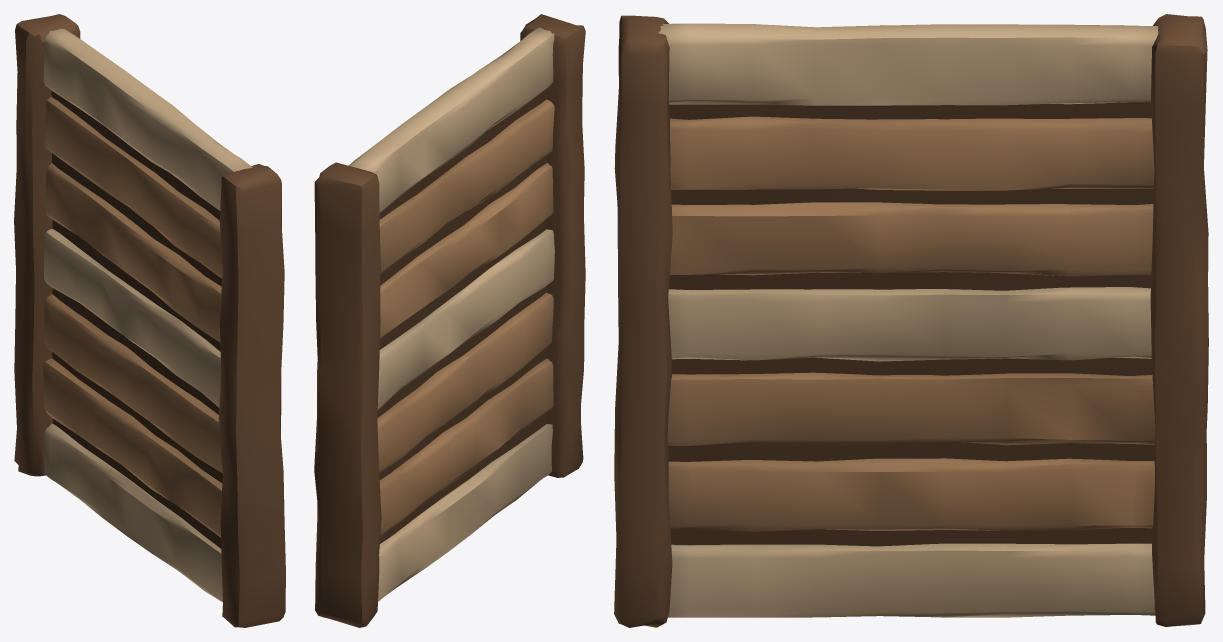
The model's file is canopy_crate_wall.glb.
3 views of the same model, side by side, from view 1: azimuth 30°, elevation 25°; view 2: azimuth 150°, elevation 25°; view 3: azimuth 270°, elevation 25° (orthographic). The views are drawn at different scales.
Parts seen in each view (by area): view 1: canopy_crate_wall; view 2: canopy_crate_wall; view 3: canopy_crate_wall.
Part boxes in pixels (x1,y1,x2,y2): canopy_crate_wall: (14, 14, 285, 627); canopy_crate_wall: (314, 14, 585, 627); canopy_crate_wall: (614, 14, 1208, 627).
Bounding box in the file's own units: 2.92 × 22.18 × 20.19.
